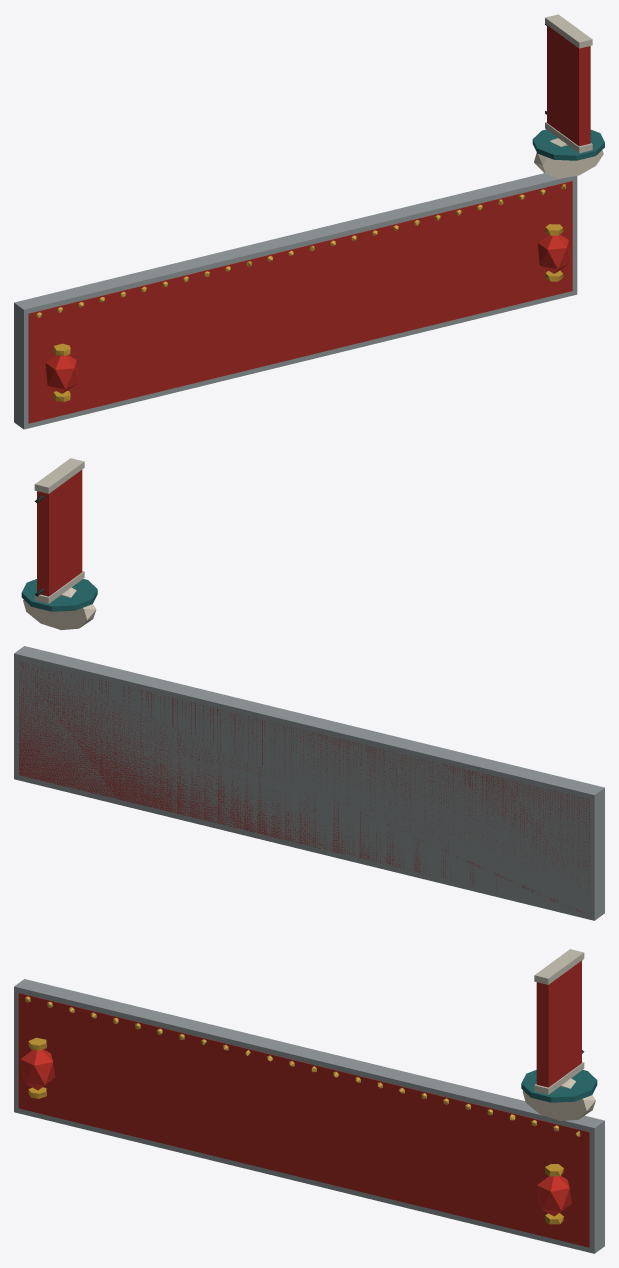
The model's file is bang_hu_tieu_mi_nam_cuong_60.glb.
The picture shows the model from 3 angles, top to bottom: view 1: azimuth 30°, elevation 25°; view 2: azimuth 150°, elevation 25°; view 3: azimuth 330°, elevation 25°; orthographic projection. The views are drawn at different scales.
Visible parts, largest first — view 1: bang_hu_tieu_mi_nam_cuong_60; view 2: bang_hu_tieu_mi_nam_cuong_60; view 3: bang_hu_tieu_mi_nam_cuong_60.
Part boxes in pixels (x1,y1,x2,y2): bang_hu_tieu_mi_nam_cuong_60: [14, 14, 604, 429]; bang_hu_tieu_mi_nam_cuong_60: [14, 458, 604, 920]; bang_hu_tieu_mi_nam_cuong_60: [14, 949, 604, 1253].
Size of the model in its own units: 5.91 by 2.81 by 0.7238.
